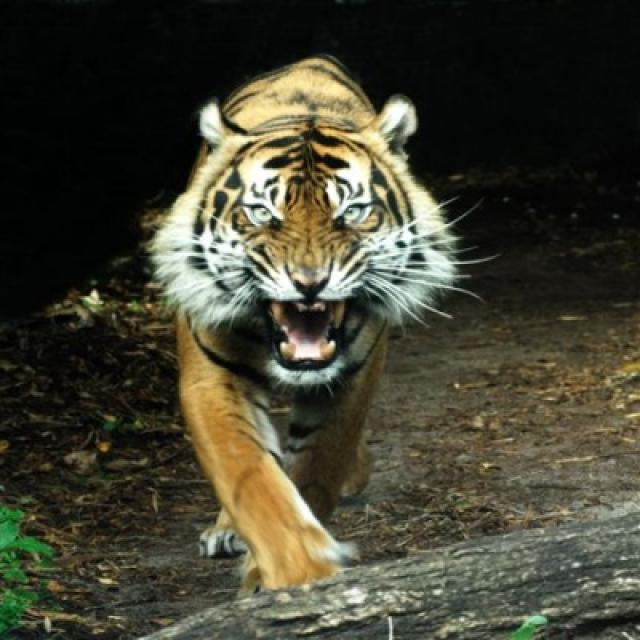Tiger: (151, 43, 454, 591)
